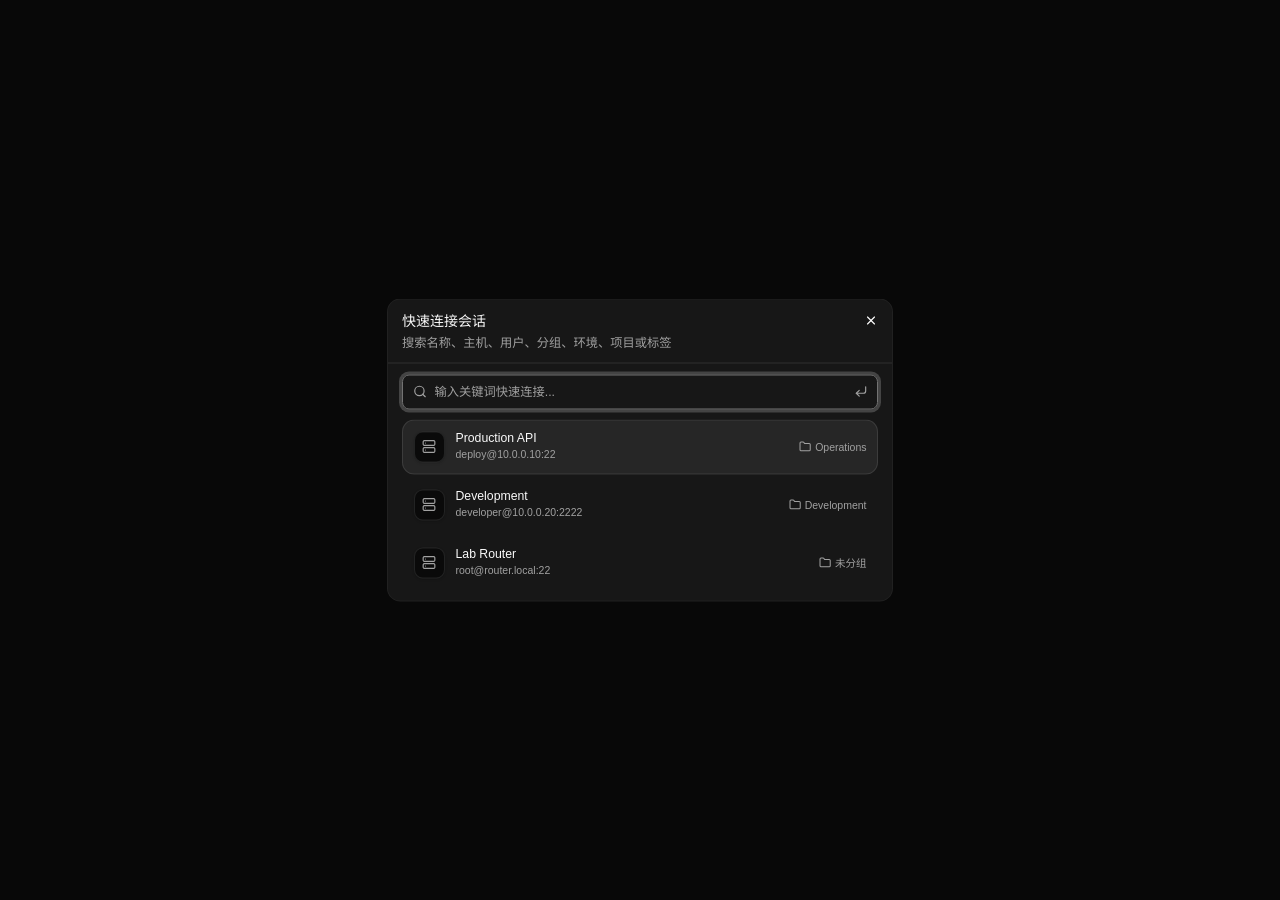
Test: SessionQuickSearchDialog › shows no-match guidance
Type "missing-session" into the search field named "搜索会话" at [640, 392], box [402,374,878,409]
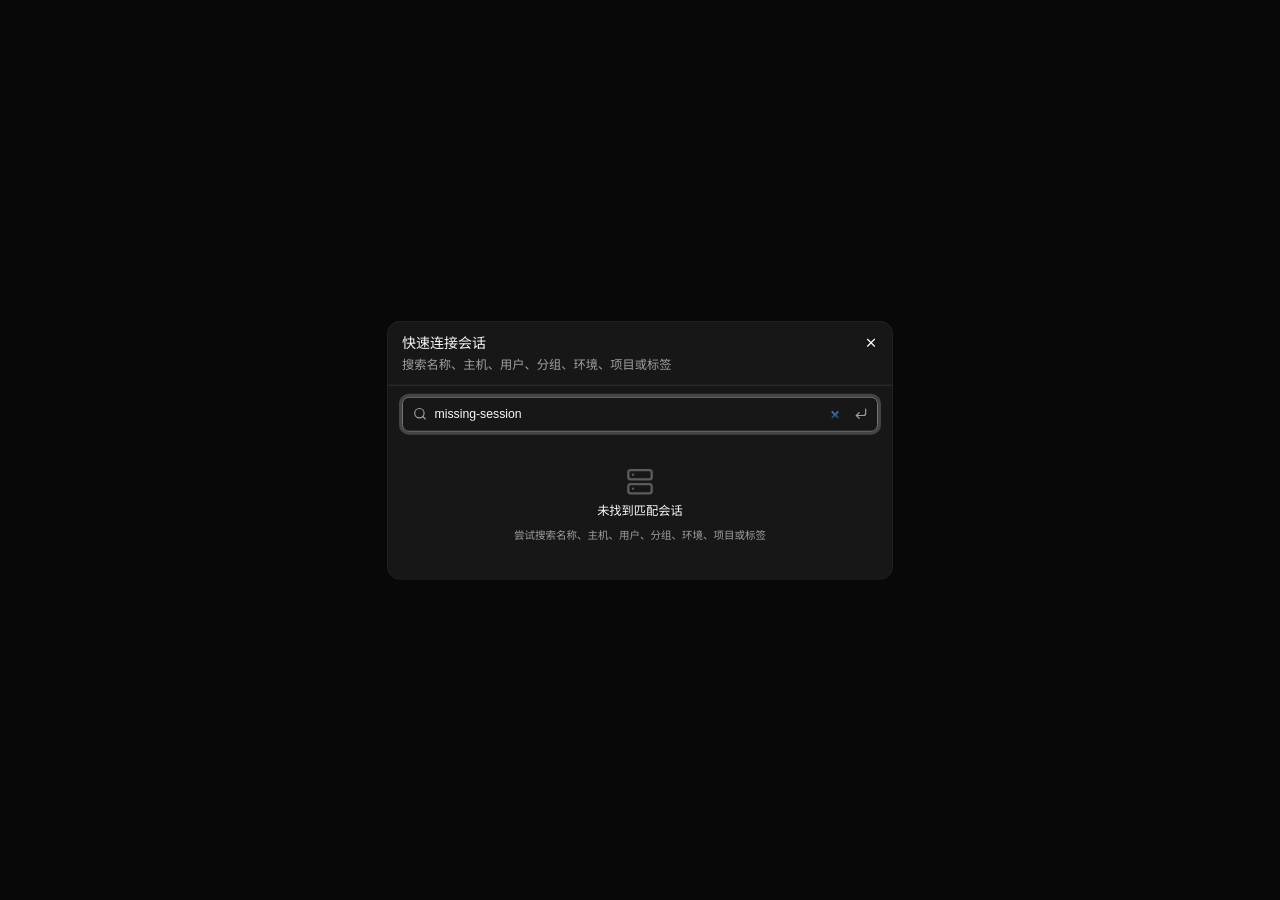
Check: the text "未找到匹配会话" is shown, box [597,503,683,520]
